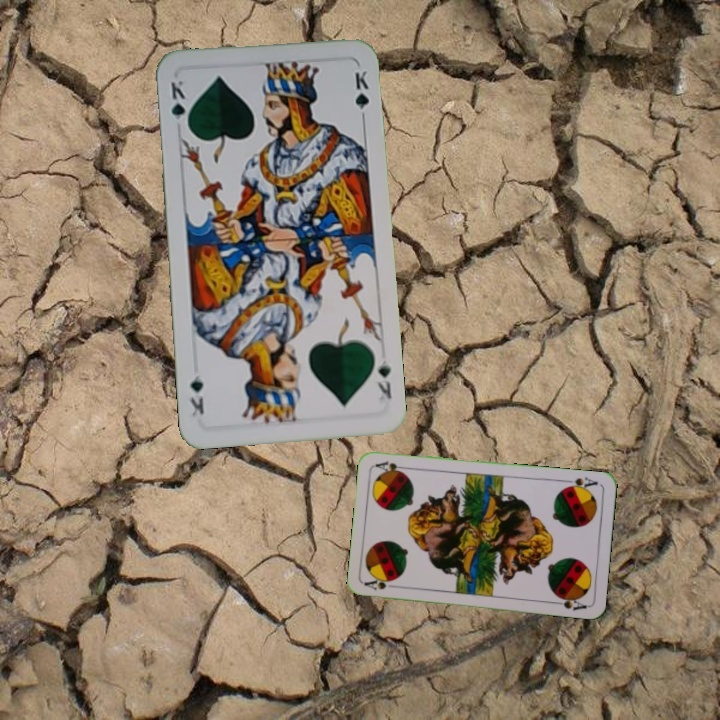GK: (167, 76, 191, 133), (373, 356, 394, 403)
SA: (560, 473, 600, 493), (361, 575, 402, 593)
